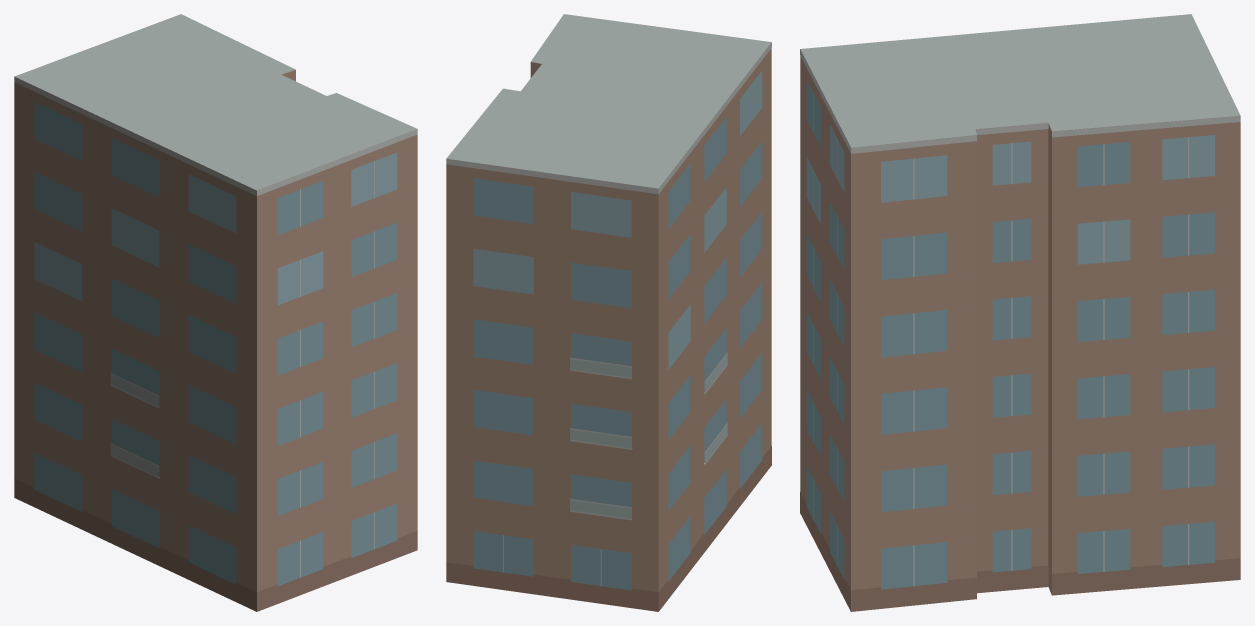
The model's file is survey-upis-32651271.glb.
3 views of the same model, side by side, from view 1: azimuth 30°, elevation 25°; view 2: azimuth 150°, elevation 25°; view 3: azimuth 270°, elevation 25° (orthographic). The views are drawn at different scales.
Parts seen in each view (by area): view 1: survey-upis-32651271.tmp; view 2: survey-upis-32651271.tmp; view 3: survey-upis-32651271.tmp.
Part boxes in pixels (x1,y1,x2,y2): survey-upis-32651271.tmp: (14, 14, 417, 611); survey-upis-32651271.tmp: (446, 14, 771, 611); survey-upis-32651271.tmp: (800, 14, 1240, 611).
Size of the model in its own units: 11.32 by 18.3 by 15.75.
